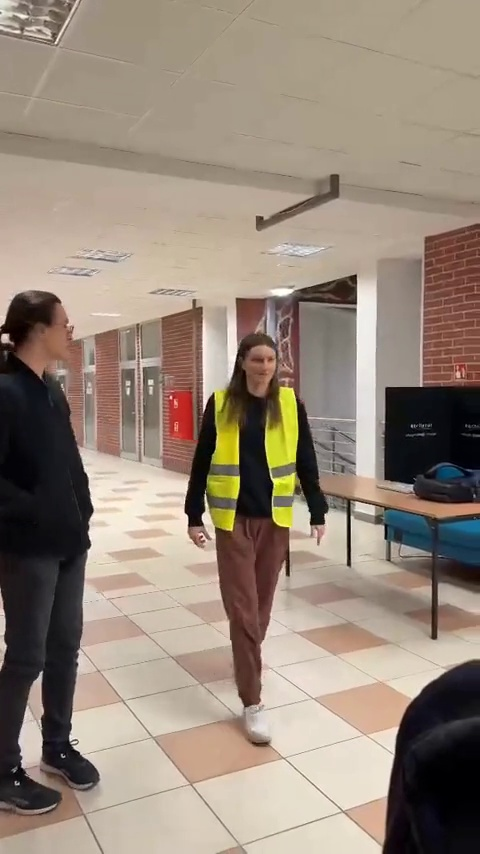no vest: (0, 277, 108, 834)
vest: (184, 326, 317, 748)
